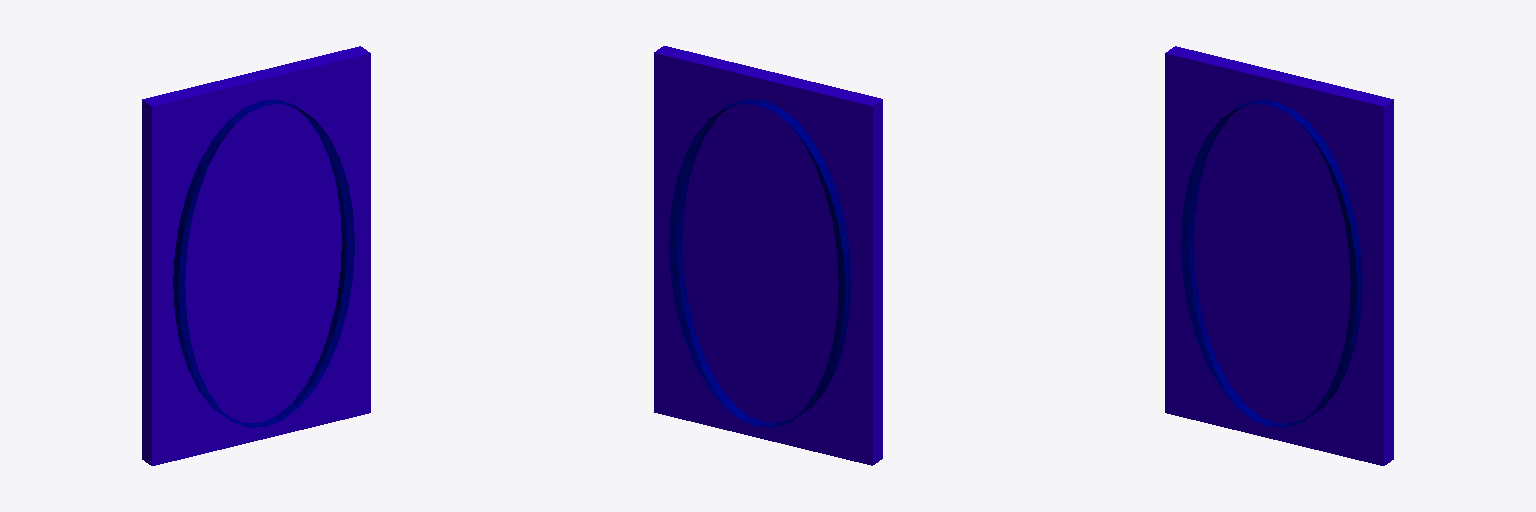
The model's file is Portal.obj.
The picture shows the model from 3 angles: view 1: azimuth 30°, elevation 25°; view 2: azimuth 150°, elevation 25°; view 3: azimuth 330°, elevation 25°; orthographic projection.
Parts seen in each view (by area): view 1: Cube, Circle; view 2: Cube, Circle; view 3: Cube, Circle.
Part boxes in pixels (bbox=[...]): Cube: bbox=[142, 46, 370, 465]; Circle: bbox=[173, 100, 354, 427]; Cube: bbox=[654, 46, 882, 465]; Circle: bbox=[669, 99, 851, 427]; Cube: bbox=[1165, 46, 1393, 465]; Circle: bbox=[1181, 100, 1362, 427].
Bounding box in the file's own units: 1.27 × 2 × 0.2199.